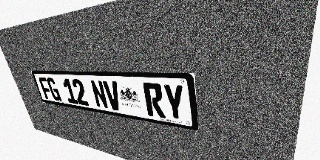1: (61, 78, 78, 104)
2: (71, 79, 89, 106)
F: (38, 77, 53, 100)
G: (46, 77, 62, 101)
N: (90, 80, 109, 109)
R: (143, 83, 166, 118)
V: (102, 80, 123, 111)
Y: (162, 84, 186, 122)
